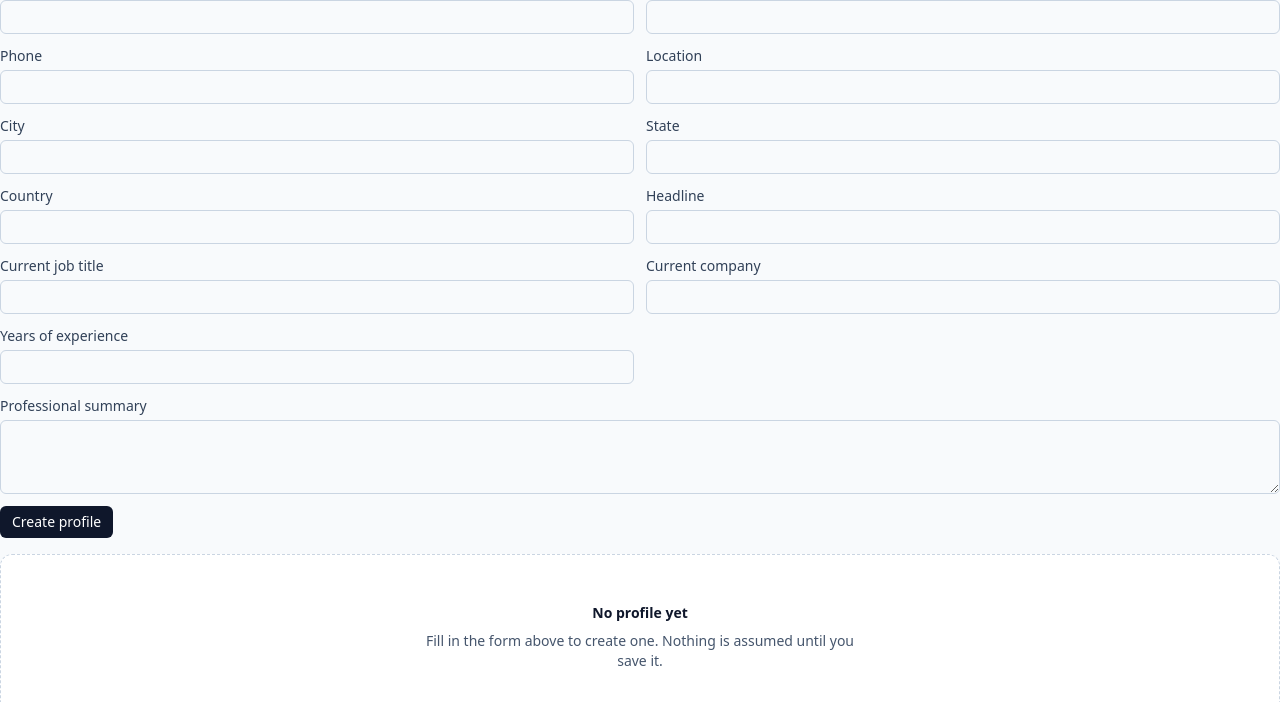
Test: ProfilePage › creates a profile when none exists and requires names
(page scrolled)
Check: the heading "No profile yet" is shown, box [592,603,688,622]
Step 1. Click the button "Create profile" → point(57, 522), box [0,506,113,538]
(page scrolled)
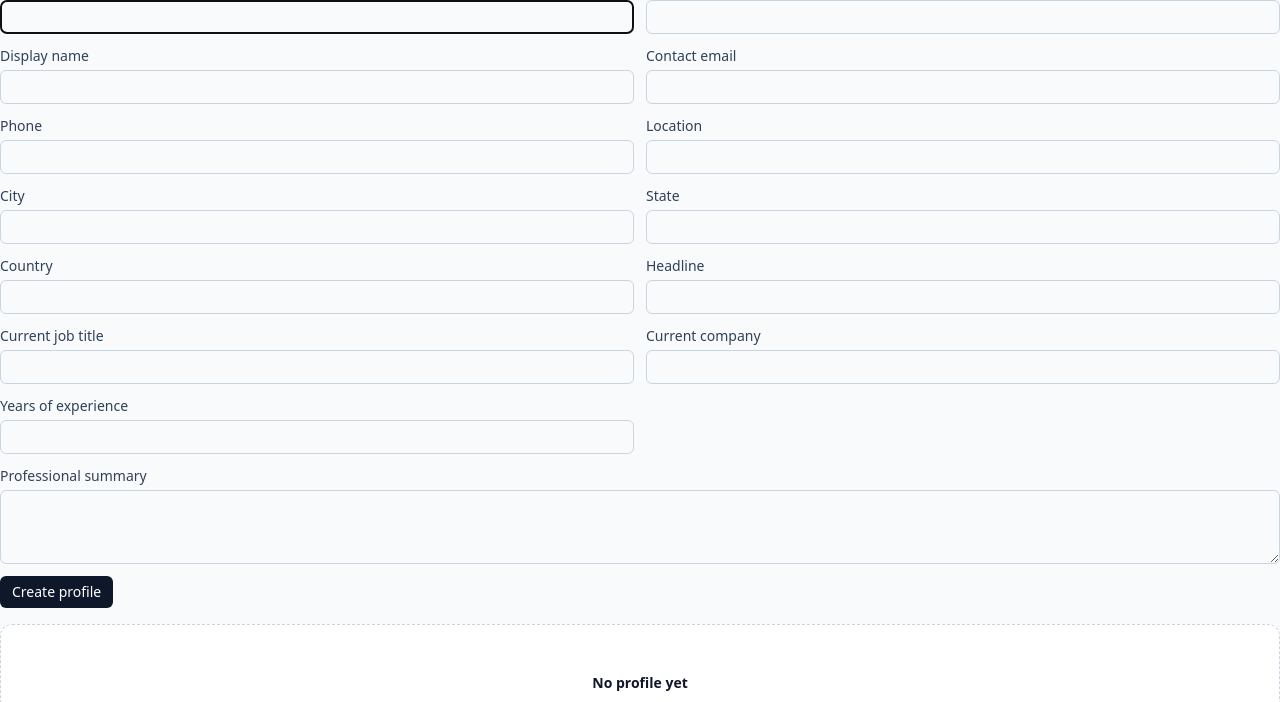
Step 2. Type "Ada" into the field labelled "First name" → point(317, 17), box [0,0,634,34]
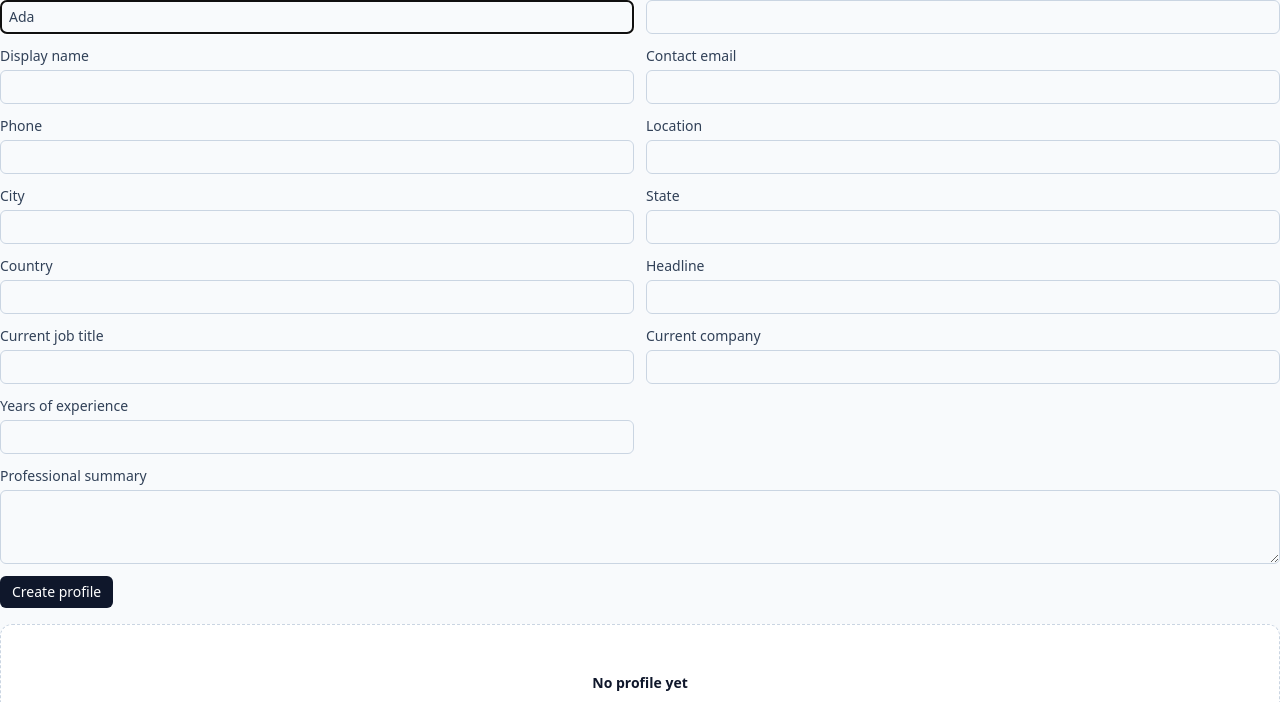
Step 3. Type "Lovelace" into the field labelled "Last name" → point(963, 17), box [646,0,1279,34]
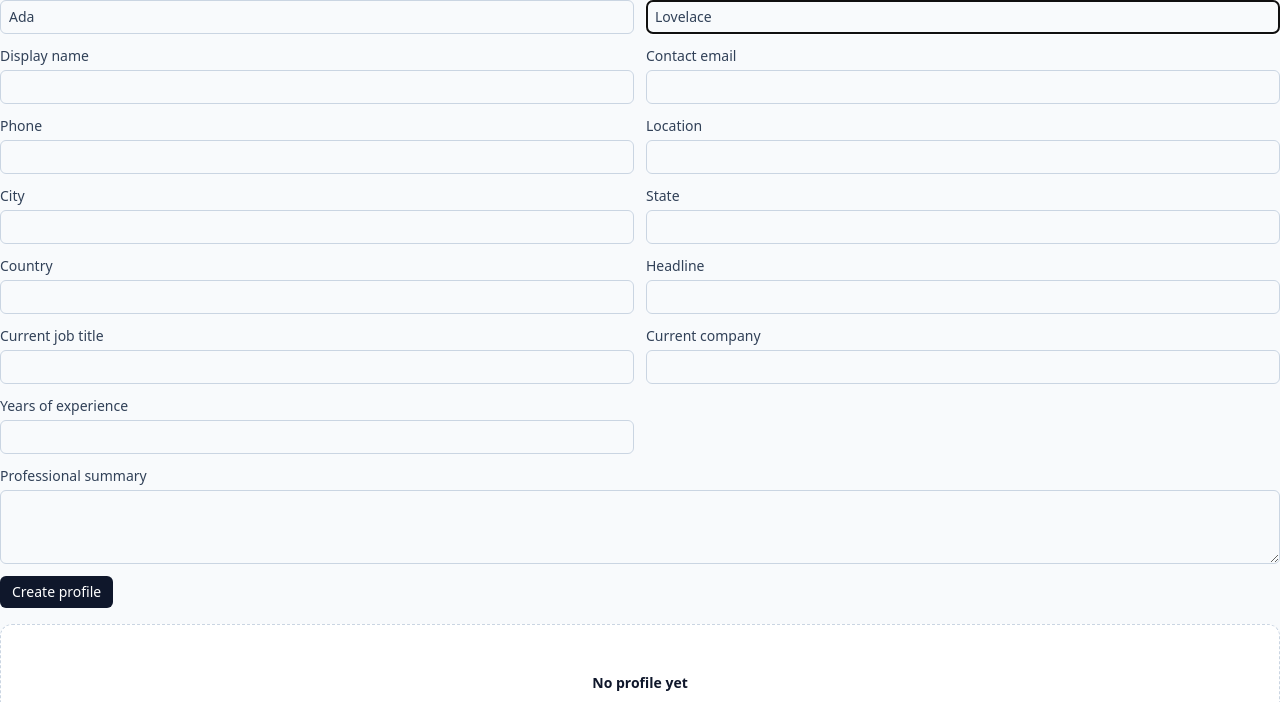
Step 4. Click the button "Create profile" → point(57, 592), box [0,576,113,608]
(page scrolled)
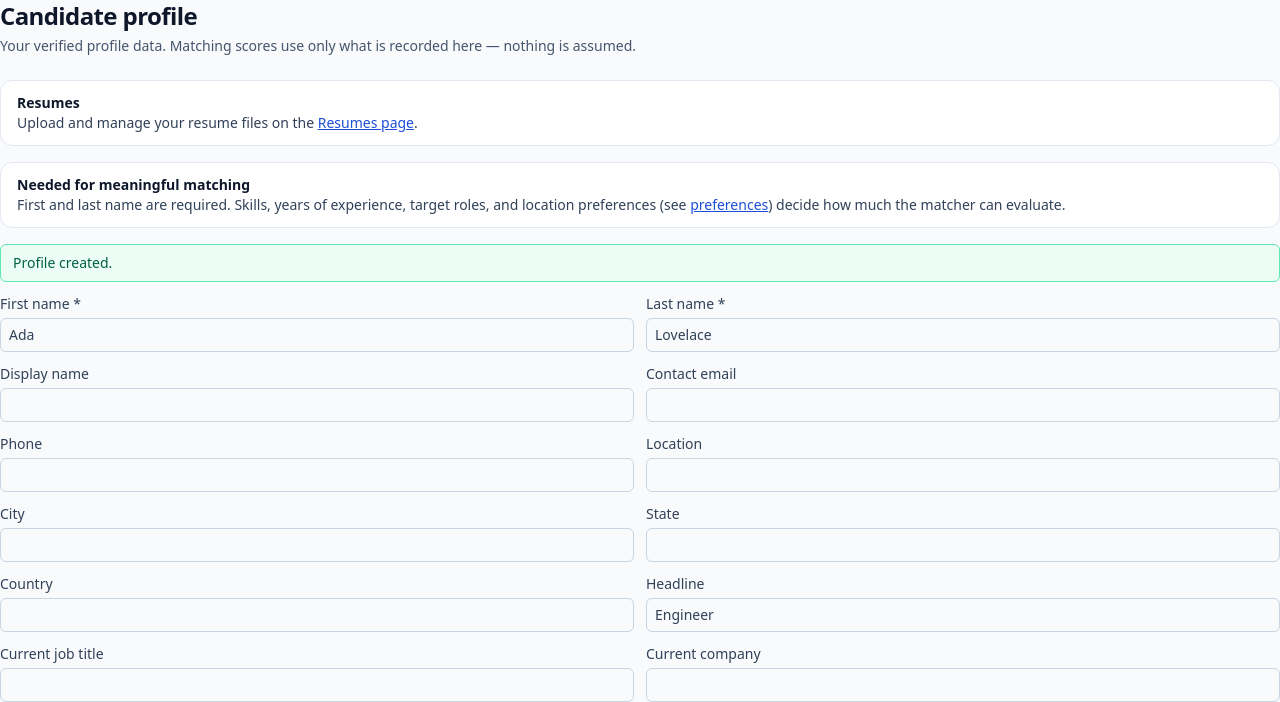
Check: the text "Profile created." is shown, box [0,244,1279,282]
